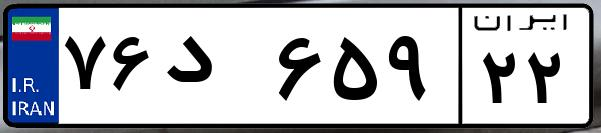2: (475, 38, 525, 113), (525, 38, 570, 115)
5: (330, 28, 385, 110)
6: (270, 28, 330, 110), (110, 28, 158, 98)
7: (57, 26, 110, 100)
9: (385, 28, 445, 110)
د: (158, 20, 270, 120)
